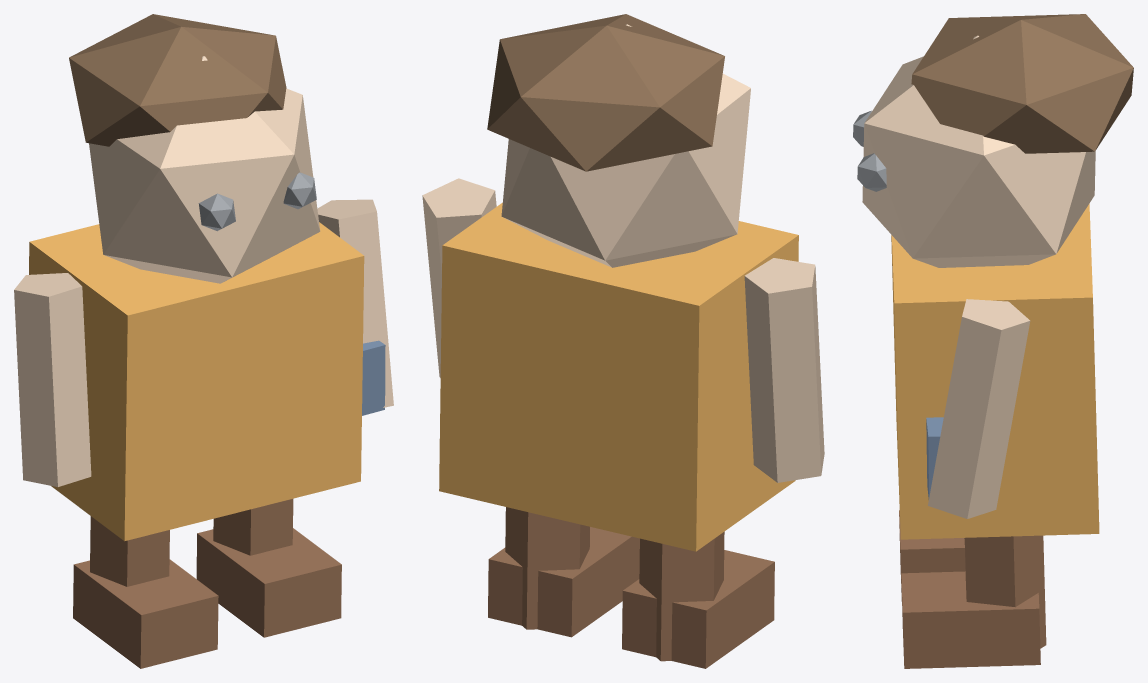
File: npcpose_villager_idle_03.glb
3 renders of one model, left to right at view 1: azimuth 30°, elevation 25°; view 2: azimuth 150°, elevation 25°; view 3: azimuth 270°, elevation 25°, orthographic. The views are drawn at different scales.
Visible parts, largest first — view 1: npcpose; view 2: npcpose; view 3: npcpose.
Boxes of the visible parts, left/top/right/bottom form: npcpose: left=14, top=14, right=393, bottom=668; npcpose: left=422, top=14, right=824, bottom=668; npcpose: left=853, top=14, right=1133, bottom=668.
Bounding box in the file's own units: 0.6985 × 1.06 × 0.4522.
